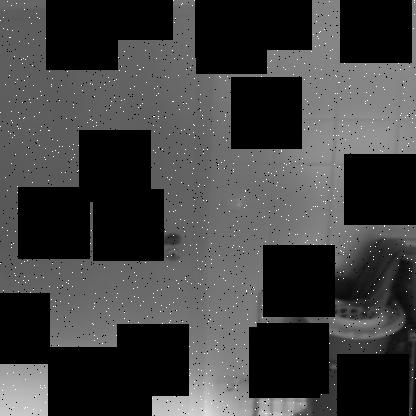Porte: (0, 2, 221, 415)
